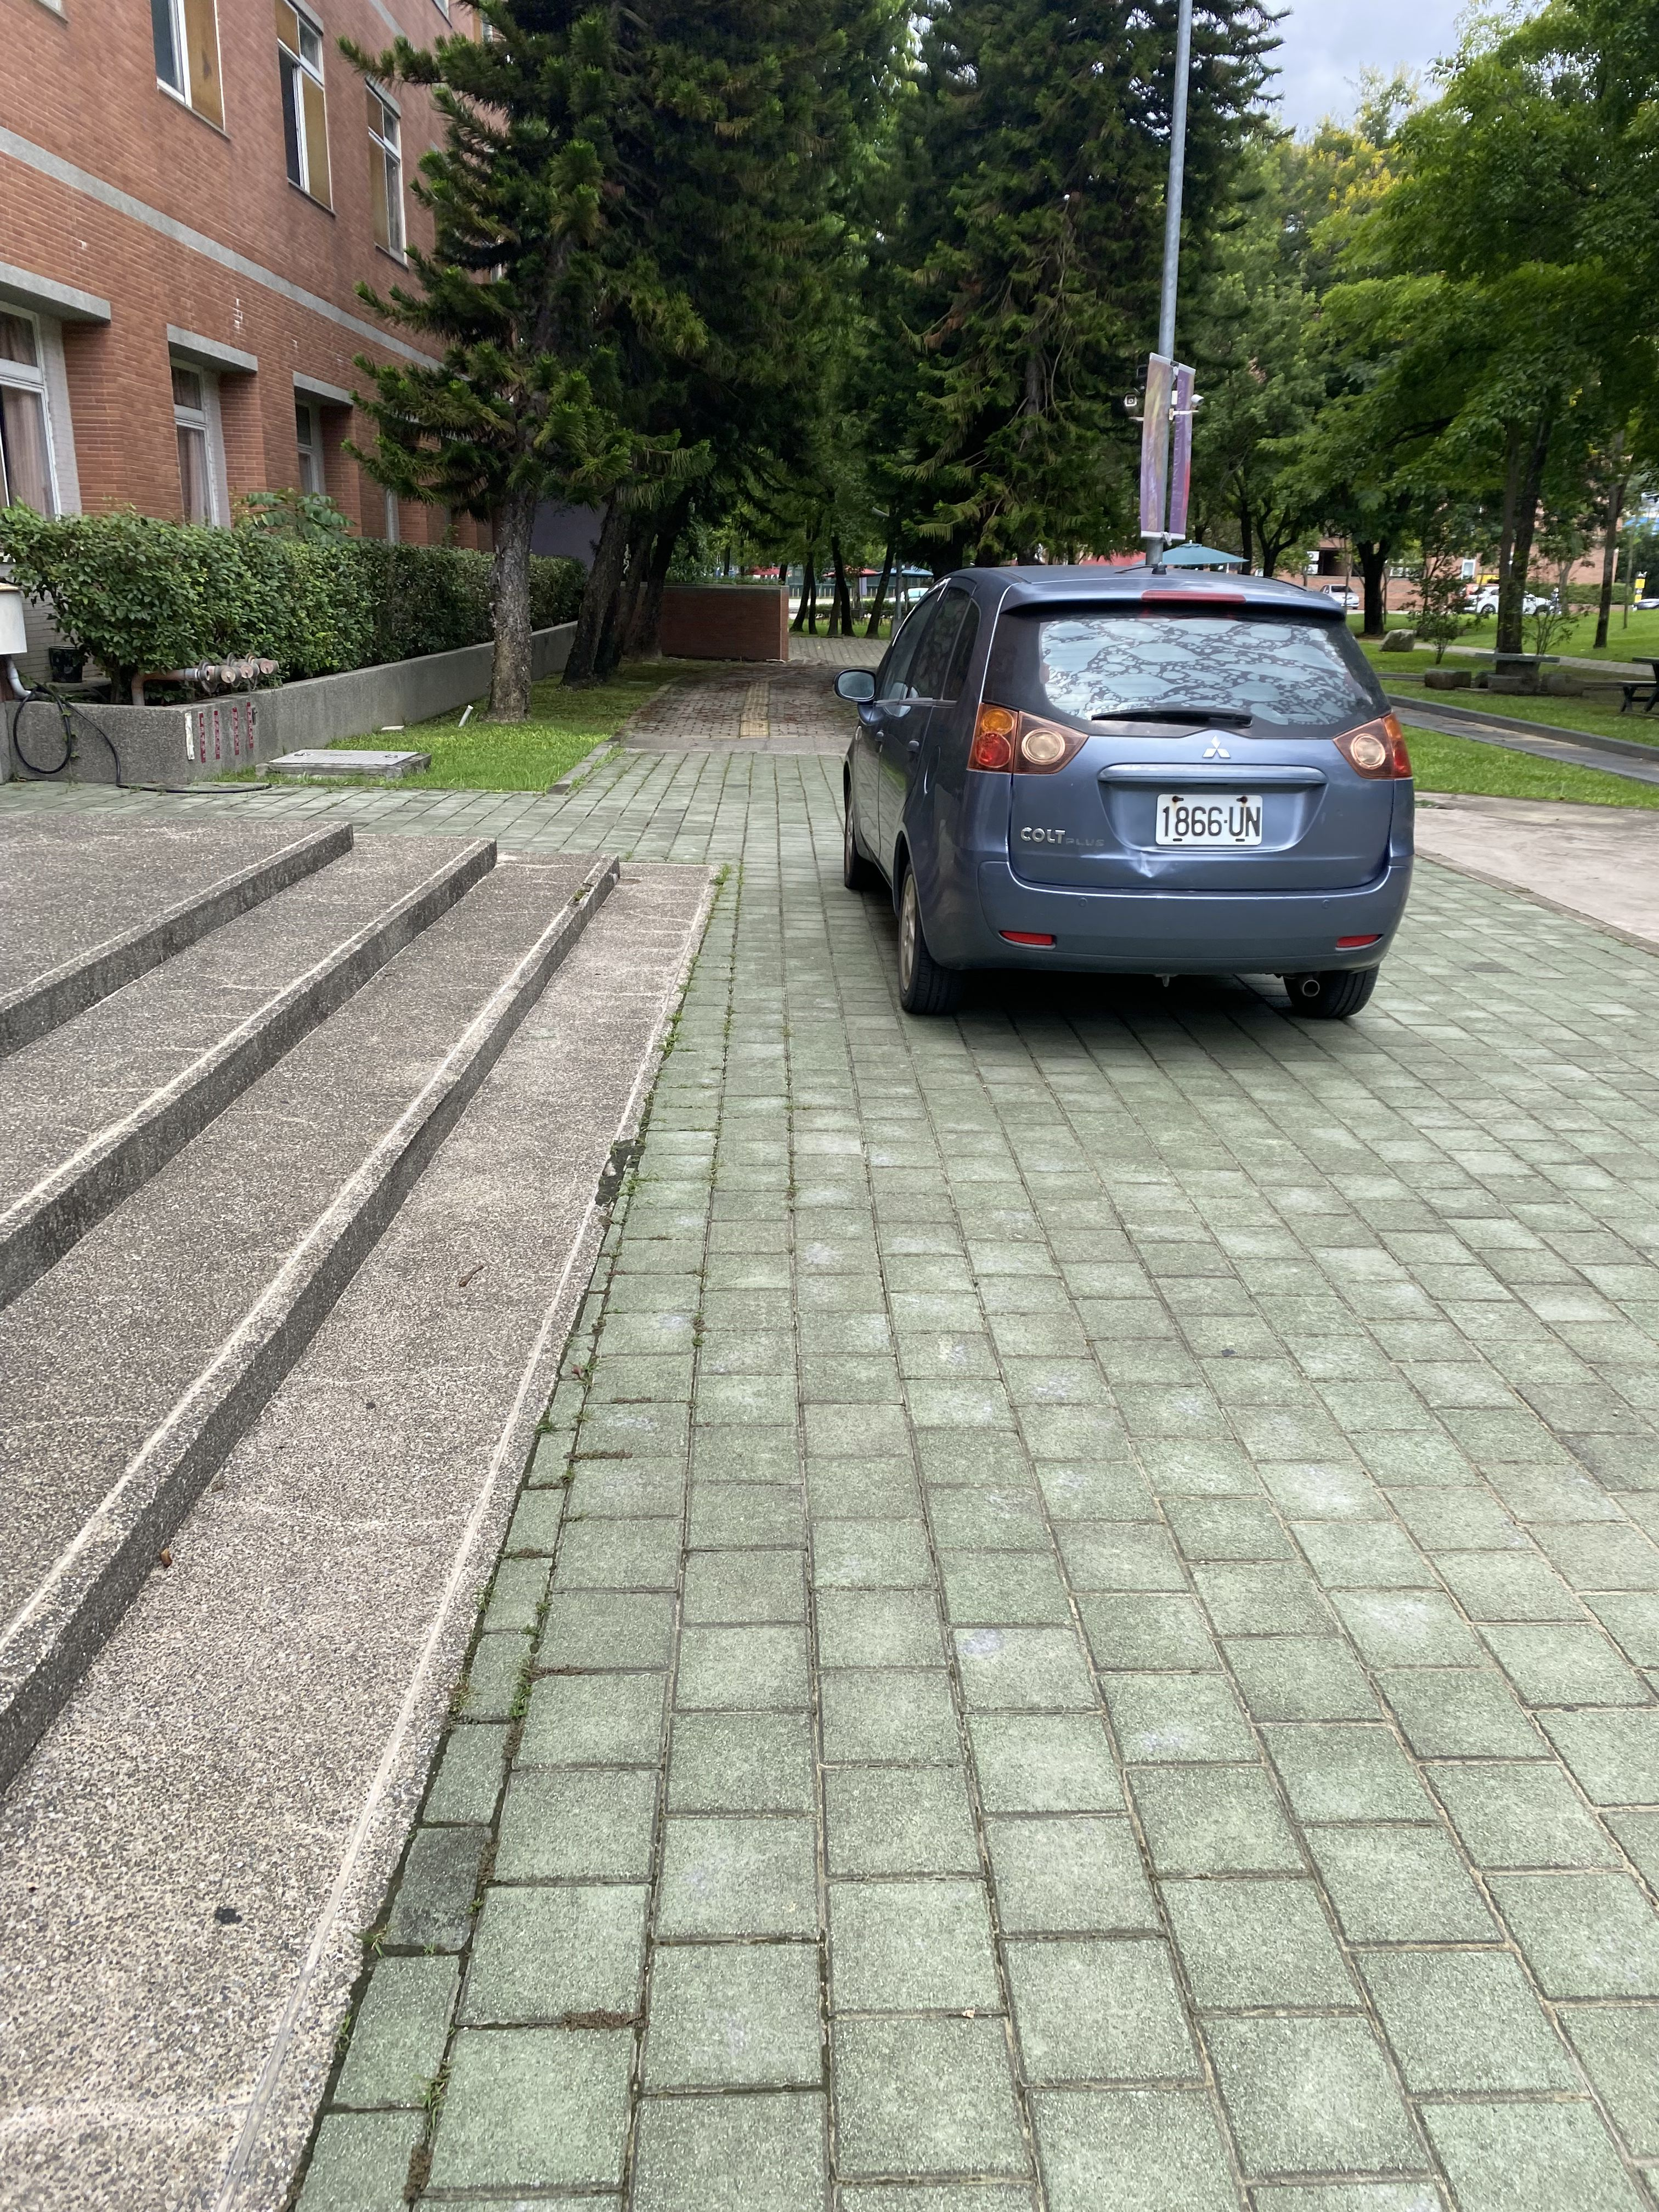sidewalk: (356, 653, 1657, 2212)
